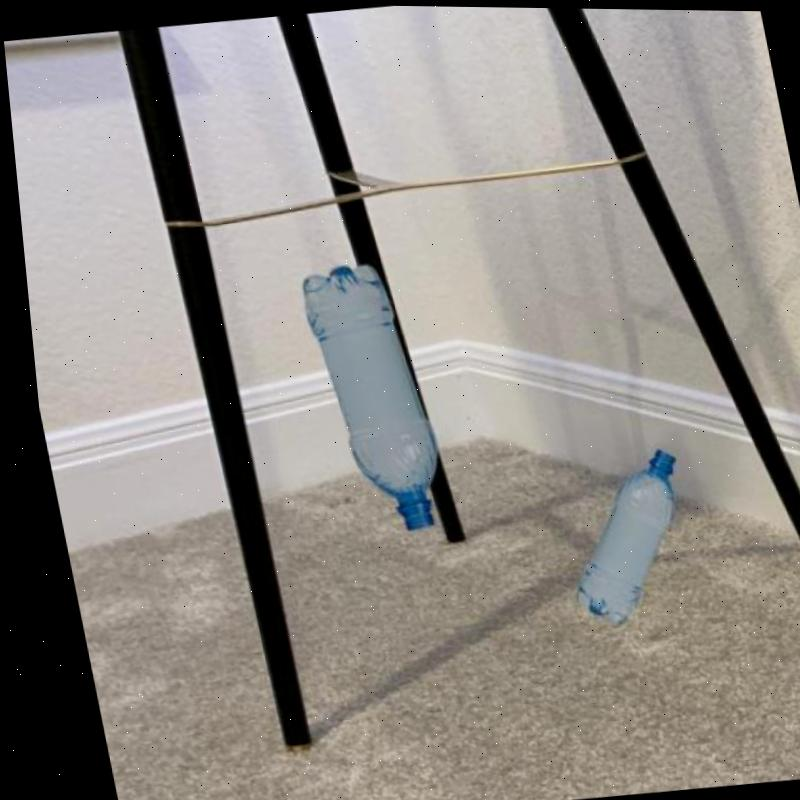botella: (288, 257, 444, 536), (537, 444, 697, 629)
